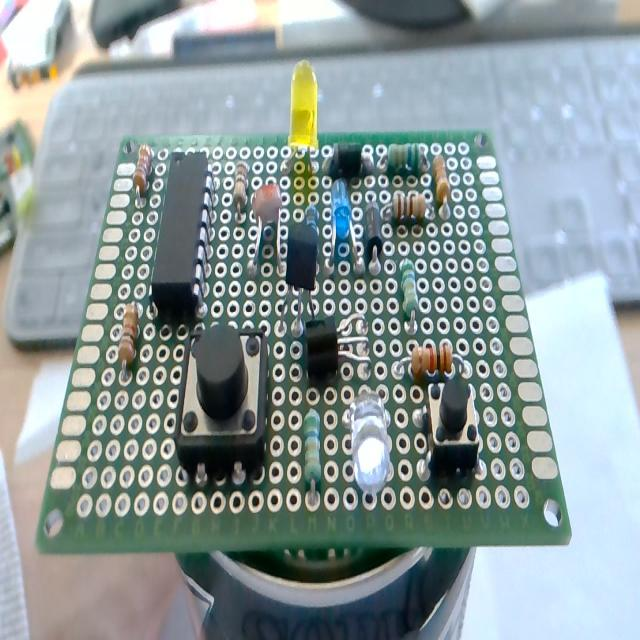IC: (150, 151, 213, 320)
cds: (251, 182, 283, 274)
diode: (323, 143, 362, 181), (365, 204, 383, 274)
led: (347, 391, 392, 498), (286, 62, 320, 171), (328, 179, 362, 275)
resistor: (402, 341, 470, 382), (303, 404, 322, 502), (119, 304, 140, 372), (133, 143, 153, 205), (388, 141, 425, 173), (400, 260, 418, 320), (394, 190, 423, 223), (232, 160, 248, 217), (432, 153, 449, 204)
switch: (174, 323, 268, 480), (426, 378, 479, 476)
transistor: (284, 203, 321, 333), (305, 315, 368, 384)
